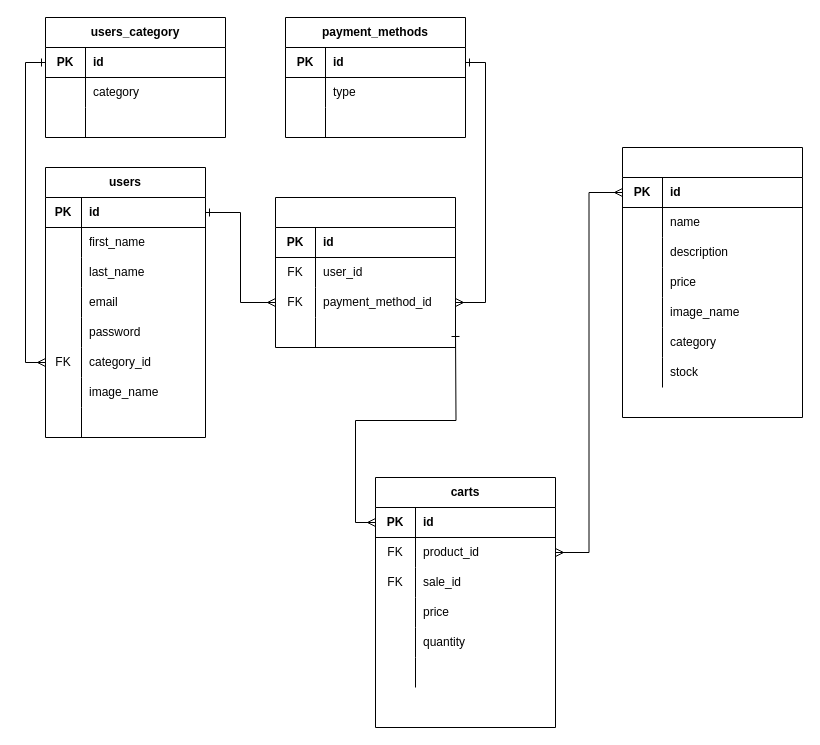
Some shapes in this 820 by 745 pixel diagram are drawn without their labels. The shapes that lost their labels are listed below. From the top down, each one's box as (x1, y1, x2, y2) in pixels, then its label:
(274, 196, 456, 348): sales
(622, 146, 802, 418): products
